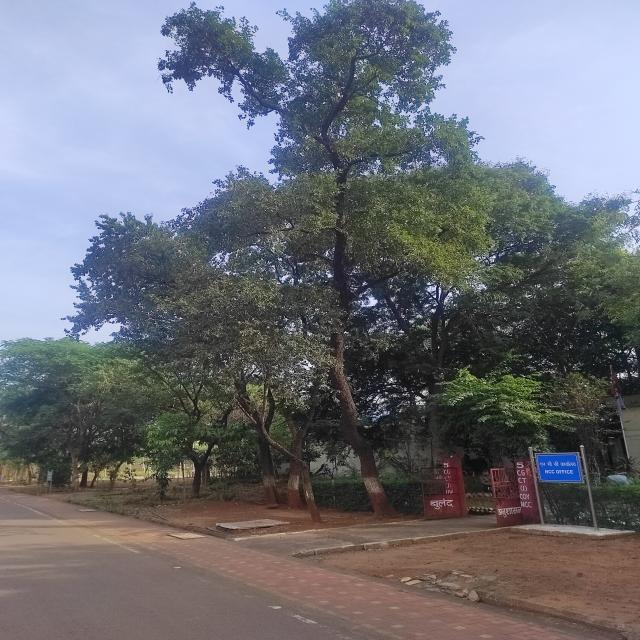Devakanchan tree: (125, 7, 535, 494)
